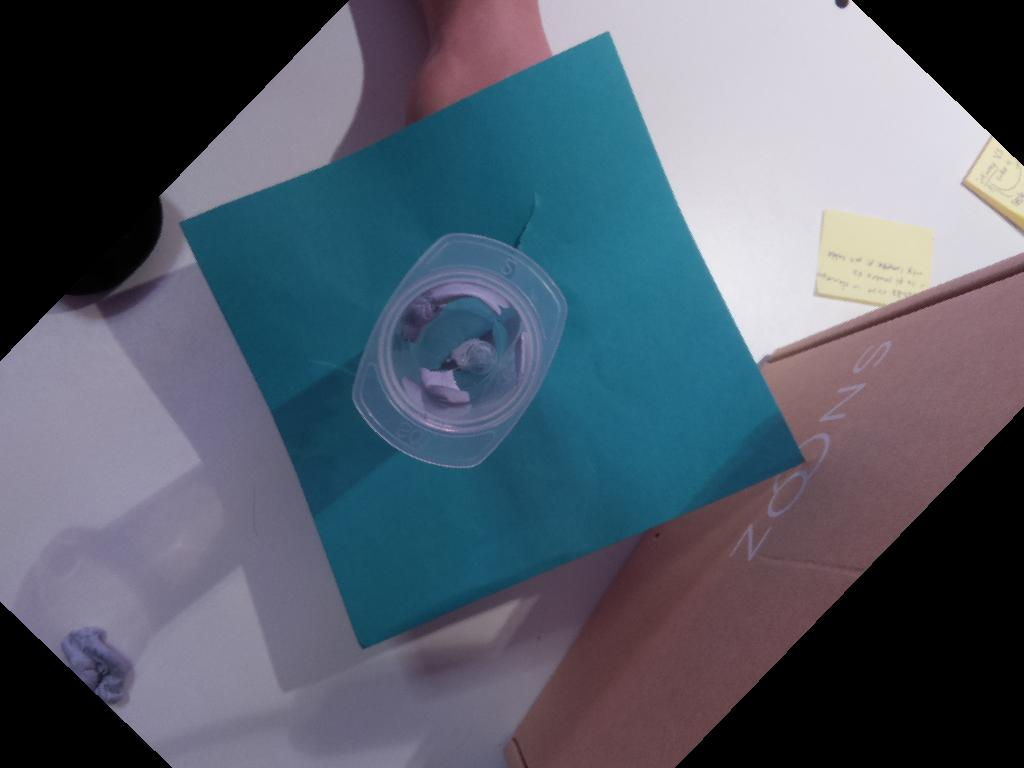dirty: (350, 232, 568, 469)
